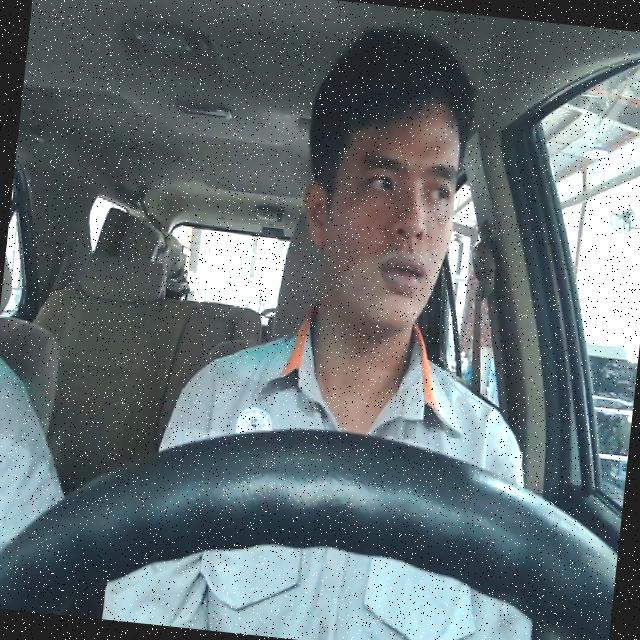seeing_right: (286, 80, 468, 337)
